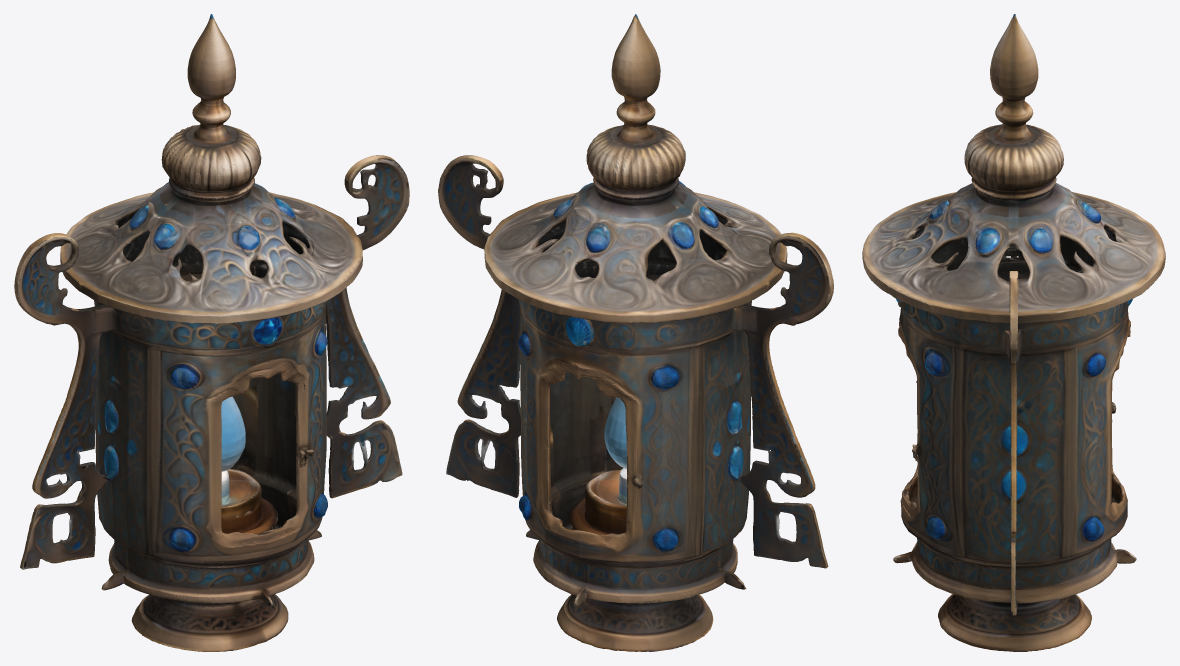
File: An_open_ceremonial_la_0617060100_texture.fbx
3 renders of one model, left to right at view 1: azimuth 30°, elevation 25°; view 2: azimuth 150°, elevation 25°; view 3: azimuth 270°, elevation 25°, orthographic.
Parts seen in each view (by area): view 1: temp; view 2: temp; view 3: temp.
Part boxes in pixels (<box>): temp: <box>14,14,409,651</box>; temp: <box>438,14,833,651</box>; temp: <box>862,14,1165,651</box>.
Bounding box in the file's own units: 135 × 200 × 90.65.
1 material, 1 textured.
